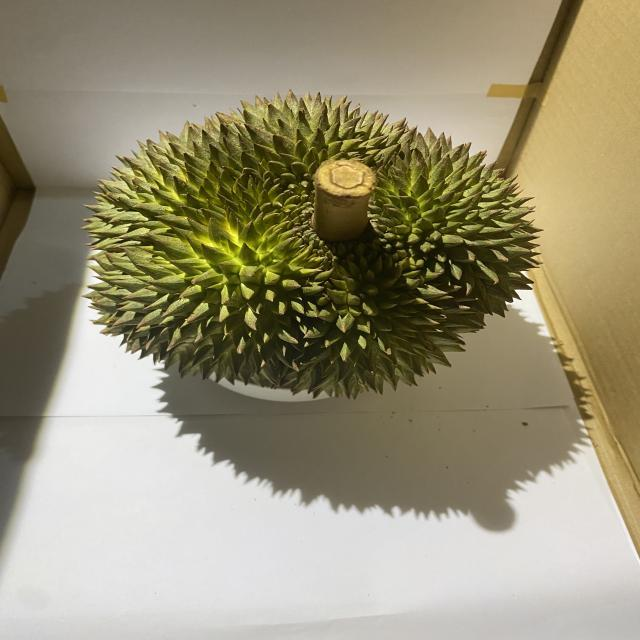immature: (81, 88, 543, 402)
